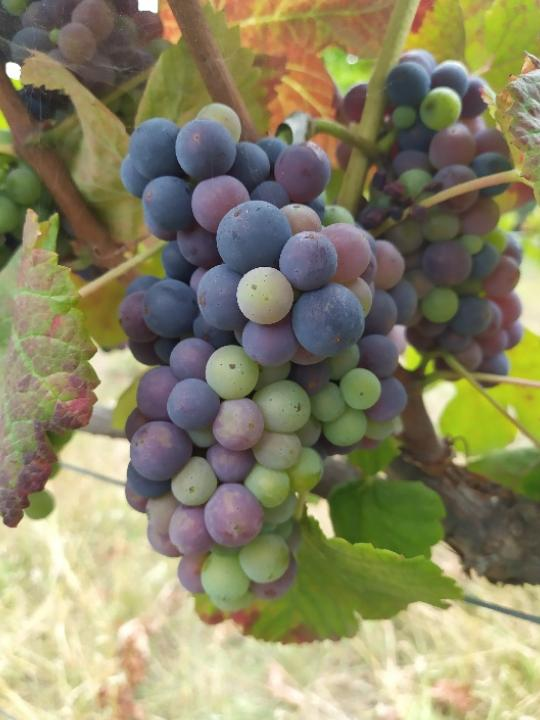grape: (117, 100, 412, 615)
